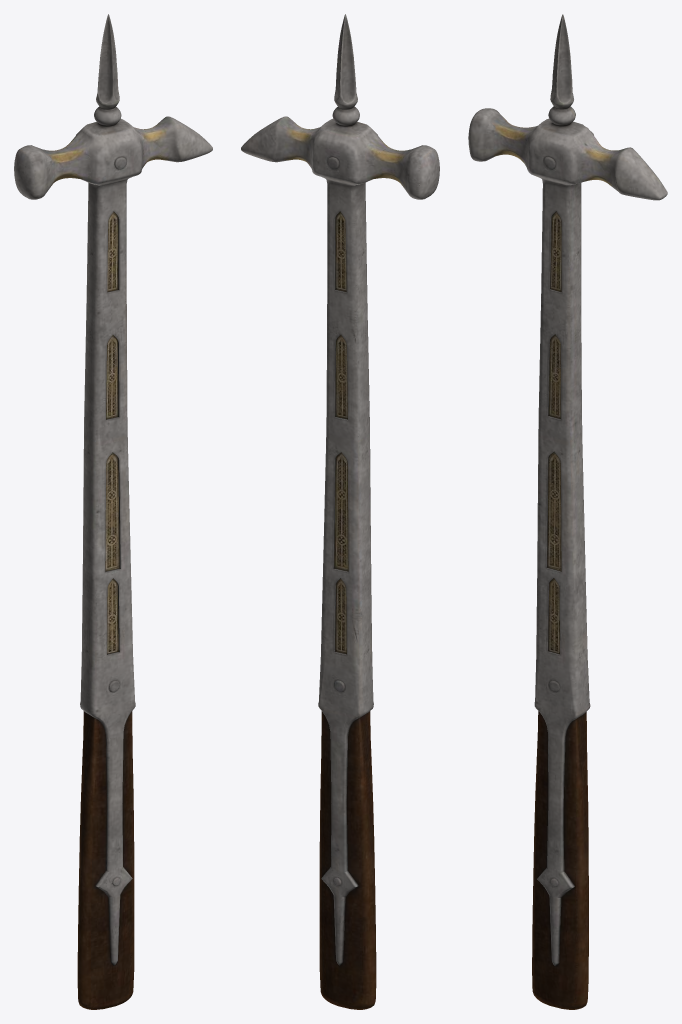
File: ph_hammer_bell.glb
3 views of the same model, side by side, from view 1: azimuth 30°, elevation 25°; view 2: azimuth 150°, elevation 25°; view 3: azimuth 330°, elevation 25° (orthographic).
Visible parts, largest first — view 1: ph_hammer_bell; view 2: ph_hammer_bell; view 3: ph_hammer_bell.
Part boxes in pixels (x1=…): ph_hammer_bell: x1=14, y1=14, x2=212, y2=1009; ph_hammer_bell: x1=241, y1=14, x2=439, y2=1009; ph_hammer_bell: x1=468, y1=14, x2=667, y2=1009.
Size of the model in its own units: 0.173 by 0.8534 by 0.0418.
Materials: 1 (1 with a texture image).
